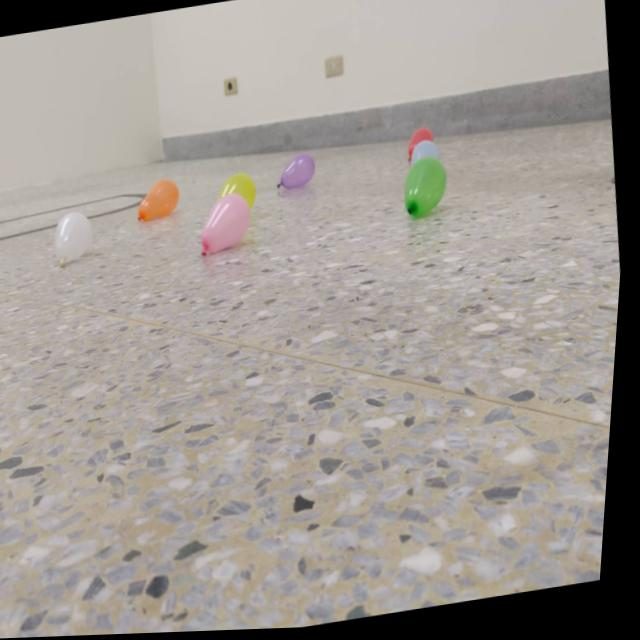other: (195, 192, 258, 258), (400, 158, 454, 222), (51, 208, 99, 268), (133, 177, 185, 222), (273, 154, 321, 194), (219, 173, 261, 209), (410, 139, 443, 170)
red: (407, 128, 436, 161)
